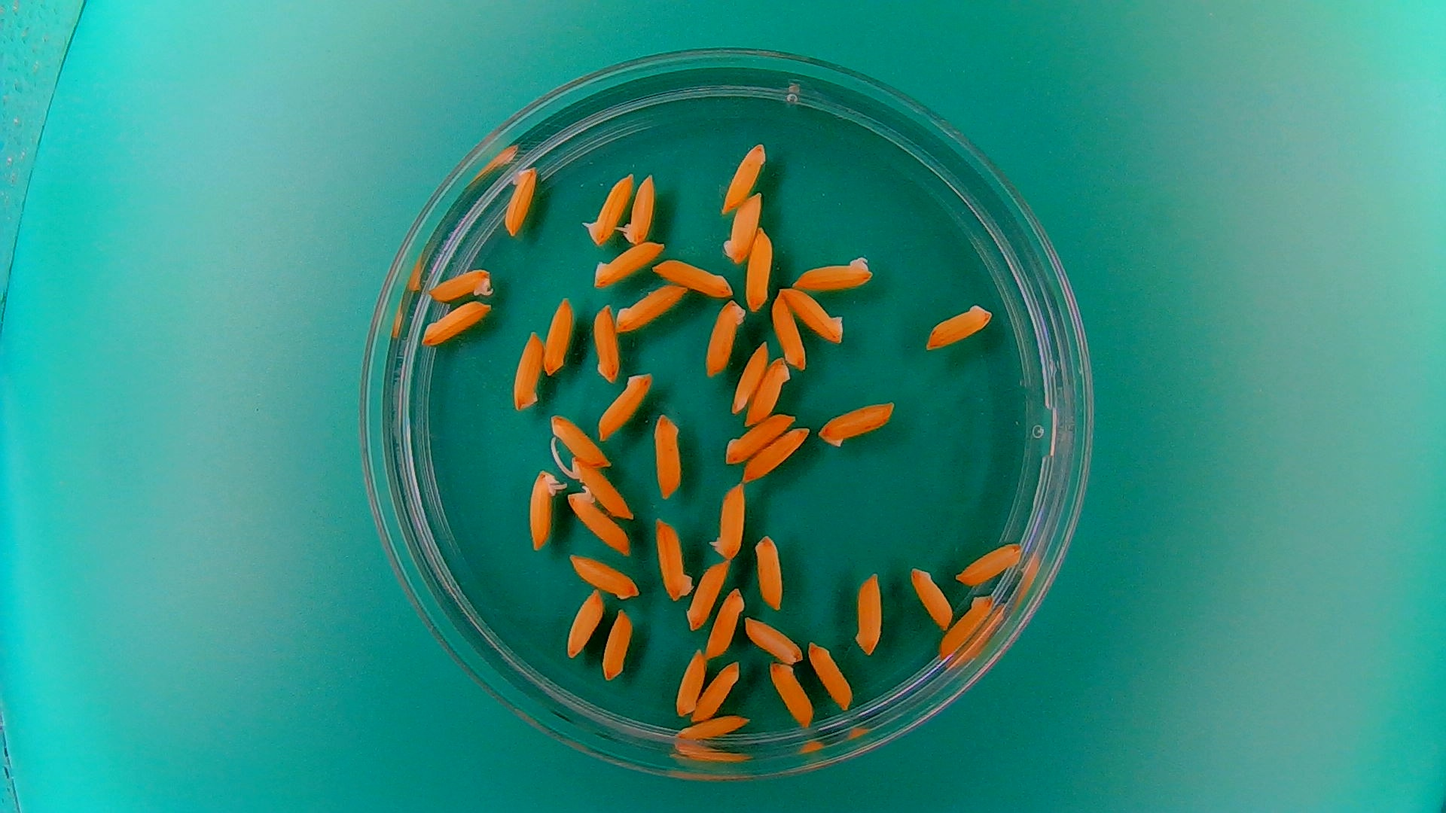no: (719, 405, 804, 473), (814, 395, 898, 450), (593, 369, 654, 440), (936, 591, 997, 660), (742, 423, 812, 483), (779, 285, 847, 344), (612, 282, 687, 334), (951, 538, 1028, 588), (590, 238, 666, 288), (923, 300, 996, 352), (548, 412, 613, 470), (720, 139, 769, 215), (419, 297, 493, 347), (566, 551, 641, 599), (702, 297, 746, 378), (654, 515, 695, 601), (744, 355, 792, 428), (685, 557, 730, 632), (651, 257, 733, 298), (807, 639, 854, 710), (691, 659, 742, 724), (720, 190, 764, 265), (768, 659, 815, 729), (741, 613, 805, 664), (563, 586, 606, 660), (730, 336, 770, 415), (704, 585, 746, 659), (770, 290, 808, 371), (908, 562, 953, 630), (509, 327, 544, 413), (541, 291, 576, 377), (744, 223, 776, 314), (651, 410, 683, 499), (752, 531, 786, 613), (590, 300, 622, 386), (599, 605, 635, 681), (503, 162, 539, 236), (853, 571, 883, 656), (673, 647, 707, 717), (682, 709, 758, 738)
yes: (564, 488, 632, 557), (568, 457, 636, 522), (581, 169, 635, 246), (789, 250, 877, 292), (526, 466, 566, 552), (708, 480, 746, 562), (618, 171, 656, 245), (428, 264, 495, 303)
